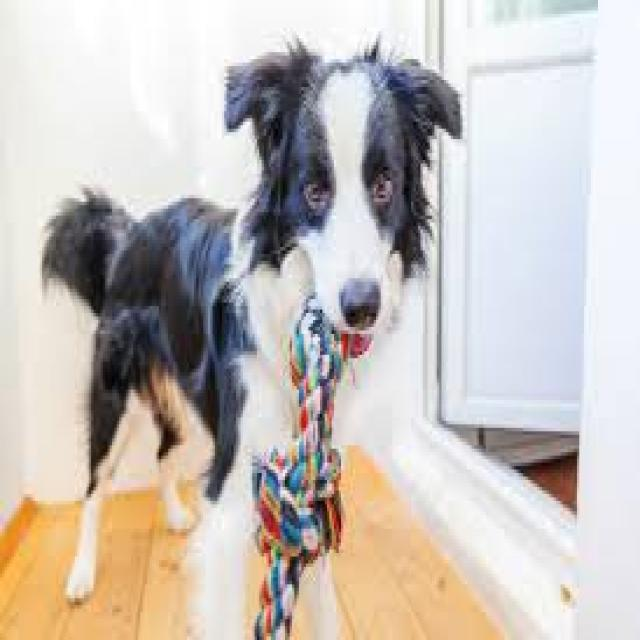Dog: (32, 0, 471, 640)
